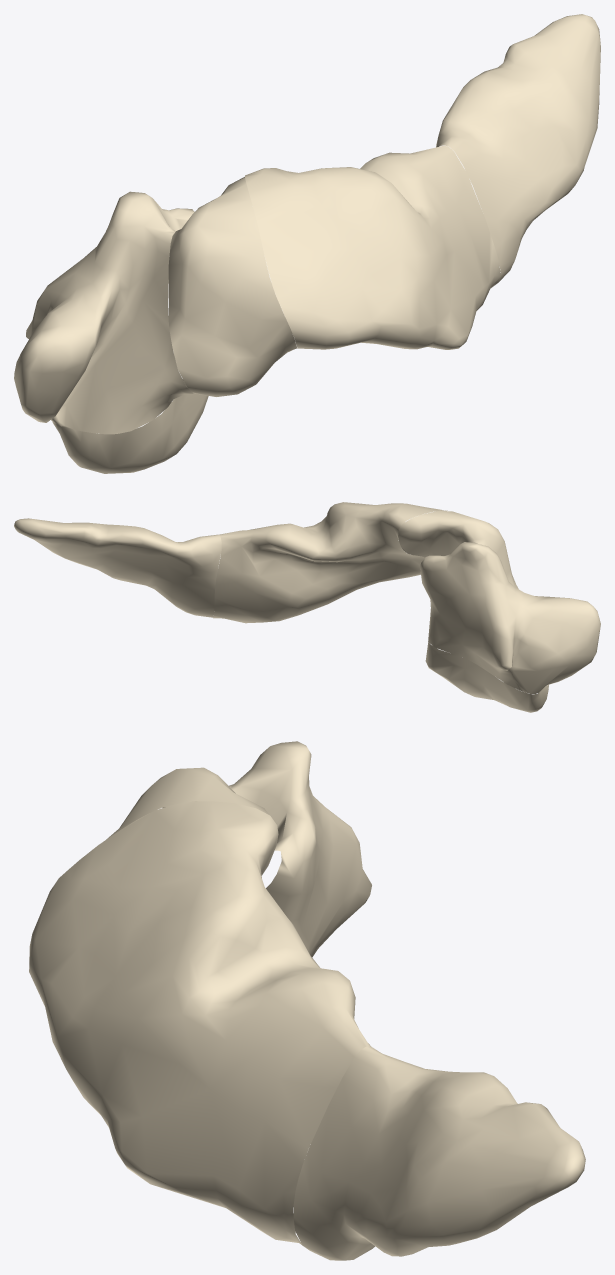
The model's file is vh_f_pancreas-20.glb.
3 renders of one model, top to bottom at view 1: azimuth 30°, elevation 25°; view 2: azimuth 150°, elevation 25°; view 3: azimuth 270°, elevation 25°, orthographic. The views are drawn at different scales.
Visible parts, largest first — view 1: VH_F_body_of_pancreas, VH_F_head_of_pancreas, VH_F_tail_of_pancreas, VH_F_neck_of_pancreas, VH_F_uncinate_process; view 2: VH_F_body_of_pancreas, VH_F_head_of_pancreas, VH_F_tail_of_pancreas, VH_F_neck_of_pancreas, VH_F_uncinate_process; view 3: VH_F_body_of_pancreas, VH_F_tail_of_pancreas, VH_F_head_of_pancreas, VH_F_neck_of_pancreas.
Boxes of the visible parts, left/top/right/bottom form: VH_F_body_of_pancreas: left=245, top=145, right=500, bottom=349; VH_F_head_of_pancreas: left=14, top=191, right=194, bottom=434; VH_F_tail_of_pancreas: left=436, top=14, right=600, bottom=282; VH_F_neck_of_pancreas: left=168, top=177, right=296, bottom=396; VH_F_uncinate_process: left=52, top=386, right=208, bottom=473; VH_F_body_of_pancreas: left=213, top=502, right=447, bottom=623; VH_F_head_of_pancreas: left=420, top=542, right=600, bottom=693; VH_F_tail_of_pancreas: left=14, top=518, right=221, bottom=617; VH_F_neck_of_pancreas: left=398, top=510, right=518, bottom=588; VH_F_uncinate_process: left=425, top=642, right=548, bottom=712; VH_F_body_of_pancreas: left=29, top=801, right=370, bottom=1244; VH_F_tail_of_pancreas: left=293, top=1046, right=585, bottom=1260; VH_F_head_of_pancreas: left=162, top=741, right=371, bottom=957; VH_F_neck_of_pancreas: left=106, top=767, right=269, bottom=839.
Bounding box in the file's own units: 0.172 × 0.0579 × 0.0844.
